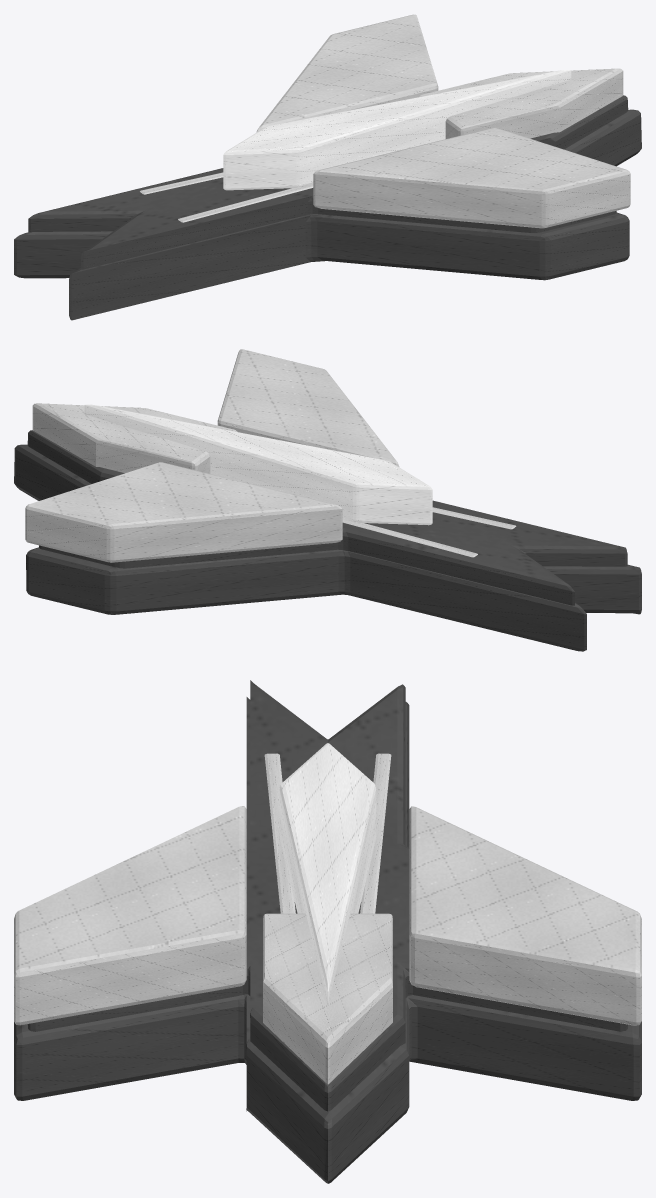
3 views of the same model, one above another, from view 1: azimuth 30°, elevation 25°; view 2: azimuth 150°, elevation 25°; view 3: azimuth 270°, elevation 25° (orthographic). The views are drawn at different scales.
Parts seen in each view (by area): view 1: TridentSpark.Root.Hardpoint, TridentSpark.SouthConductor, TridentSpark.Root.Armor, TridentSpark.EnergySpine, TridentSpark.NorthConductor, TridentSpark.NoseFace, TridentSpark.SouthRail, TridentSpark.NorthRail; view 2: TridentSpark.Root.Hardpoint, TridentSpark.NorthConductor, TridentSpark.Root.Armor, TridentSpark.EnergySpine, TridentSpark.SouthConductor, TridentSpark.NoseFace, TridentSpark.NorthRail, TridentSpark.SouthRail; view 3: TridentSpark.Root.Hardpoint, TridentSpark.SouthConductor, TridentSpark.NorthConductor, TridentSpark.Root.Armor, TridentSpark.NoseFace, TridentSpark.EnergySpine, TridentSpark.NorthRail, TridentSpark.SouthRail.
Boxes of the visible parts, bbox=[...] form: TridentSpark.Root.Hardpoint: bbox=[14, 109, 641, 320]; TridentSpark.SouthConductor: bbox=[313, 128, 630, 228]; TridentSpark.Root.Armor: bbox=[28, 95, 628, 269]; TridentSpark.EnergySpine: bbox=[223, 70, 571, 190]; TridentSpark.NorthConductor: bbox=[256, 14, 438, 132]; TridentSpark.NoseFace: bbox=[418, 68, 623, 138]; TridentSpark.SouthRail: bbox=[178, 184, 313, 222]; TridentSpark.NorthRail: bbox=[140, 172, 223, 194]; TridentSpark.Root.Hardpoint: bbox=[14, 444, 641, 651]; TridentSpark.NorthConductor: bbox=[25, 462, 342, 562]; TridentSpark.Root.Armor: bbox=[27, 430, 627, 605]; TridentSpark.EnergySpine: bbox=[84, 404, 432, 525]; TridentSpark.SouthConductor: bbox=[217, 349, 399, 466]; TridentSpark.NoseFace: bbox=[32, 403, 237, 473]; TridentSpark.NorthRail: bbox=[342, 519, 477, 557]; TridentSpark.SouthRail: bbox=[432, 507, 516, 529]; TridentSpark.Root.Hardpoint: bbox=[14, 697, 641, 1183]; TridentSpark.SouthConductor: bbox=[14, 806, 246, 1025]; TridentSpark.NorthConductor: bbox=[409, 806, 641, 1025]; TridentSpark.Root.Armor: bbox=[28, 680, 627, 1111]; TridentSpark.NoseFace: bbox=[263, 913, 392, 1084]; TridentSpark.EnergySpine: bbox=[279, 743, 376, 1004]; TridentSpark.NorthRail: bbox=[360, 753, 391, 913]; TridentSpark.SouthRail: bbox=[264, 753, 295, 913].
Bounding box in the file's own units: 0.9917 × 0.165 × 0.617.
3 materials, 3 textured.
